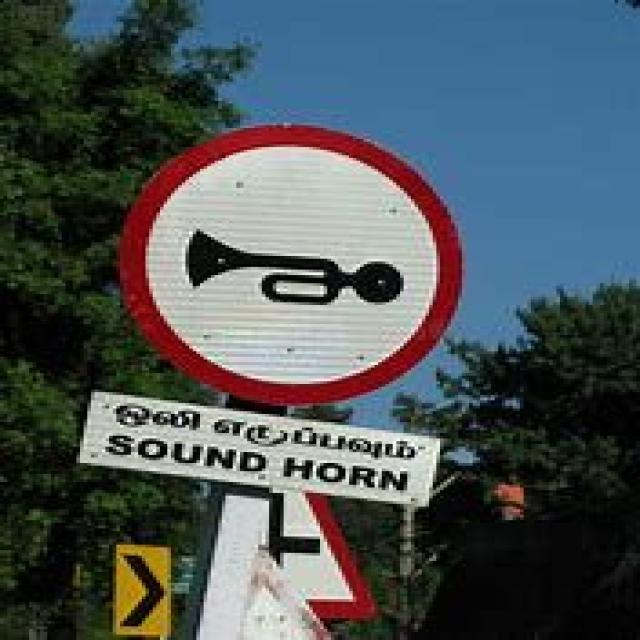COMPULSARY_SOUND_HORN: (102, 126, 475, 403)
